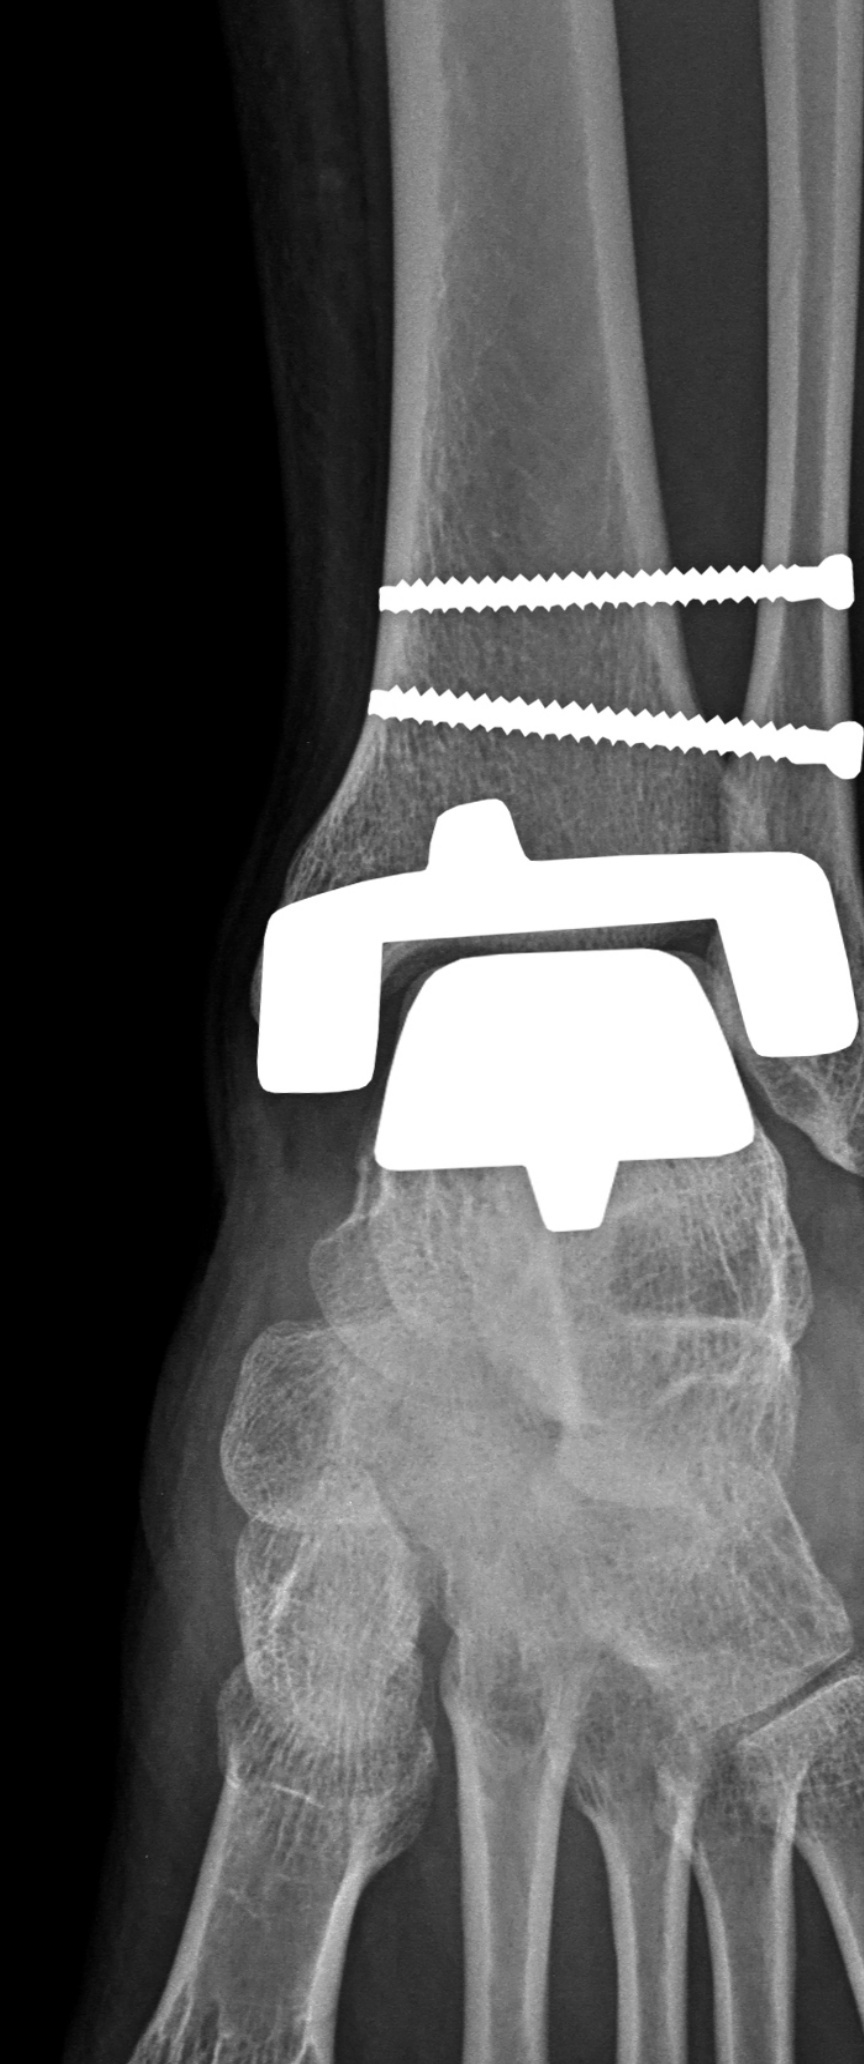Ankle - Agility - DePuy: (213, 532, 864, 1247)
